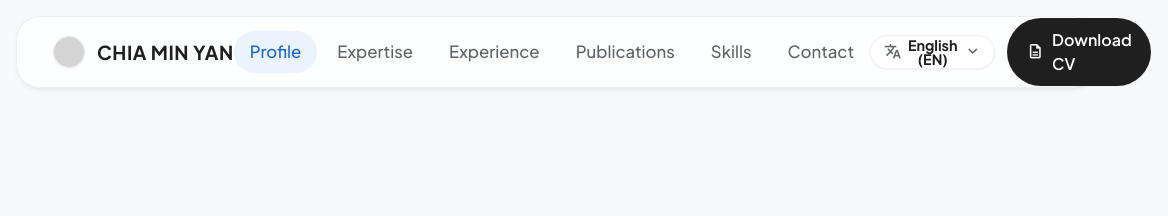
Scenario: HeaderComponent › language dropdown › selecting zh closes the menu, re-renders the header and marks 1 when reopened
The image size is (1168, 216).
Click the button with class "lang-dropdown-trigger" at [933, 52], box [870,35,995,69]
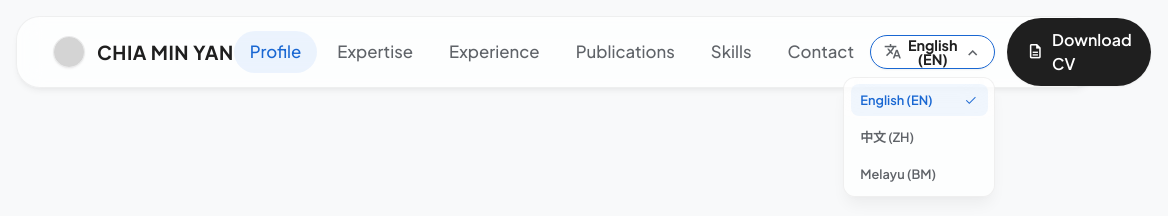
Click the button with class "menu-item" showing "中文 (ZH)" at [919, 137], box [851,119,988,154]
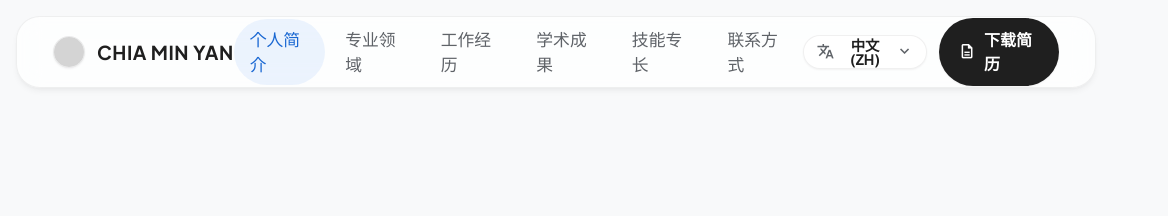
Result: the element with class "lang-dropdown-menu" is gone
Result: the text with class "desktop-only" reads "中文 (ZH)" at [850,36,880,68]
Result: the link with class "nav-link" reads "个人简介" at [234,19,325,85]
// Reopen the menu to verify the check icon moved to the active language, then switch back to English.
Click the button with class "lang-dropdown-trigger" at [865, 52], box [803,35,927,69]
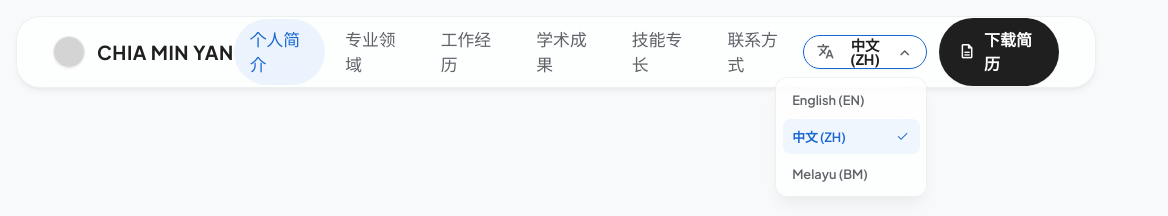
Result: the number of icons with class "check-icon" is 1 at [895,129,910,144]
Click the button with class "menu-item" showing "English (EN)" at [851, 100], box [782,84,920,116]
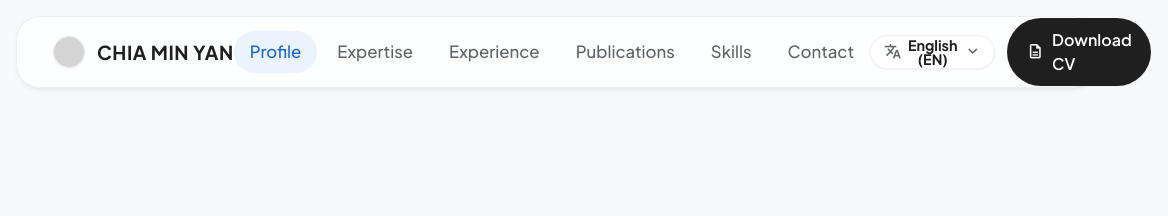
Result: the text with class "desktop-only" reads "English (EN)" at [908,36,958,68]
